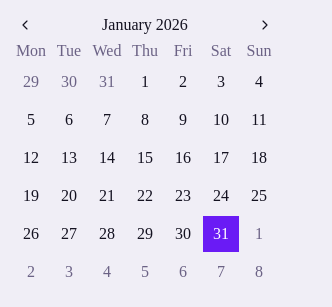
Test: CalendarComponent › month navigation › keeps the day of the month when it can
Click the button named "Next month". click: (265, 25)
box: [252,12,278,38]
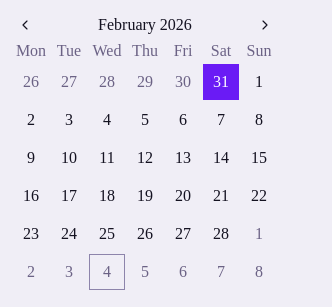
Now the text with class "ds-calendar__month" reads "February 2026", box [98,16,192,33]
